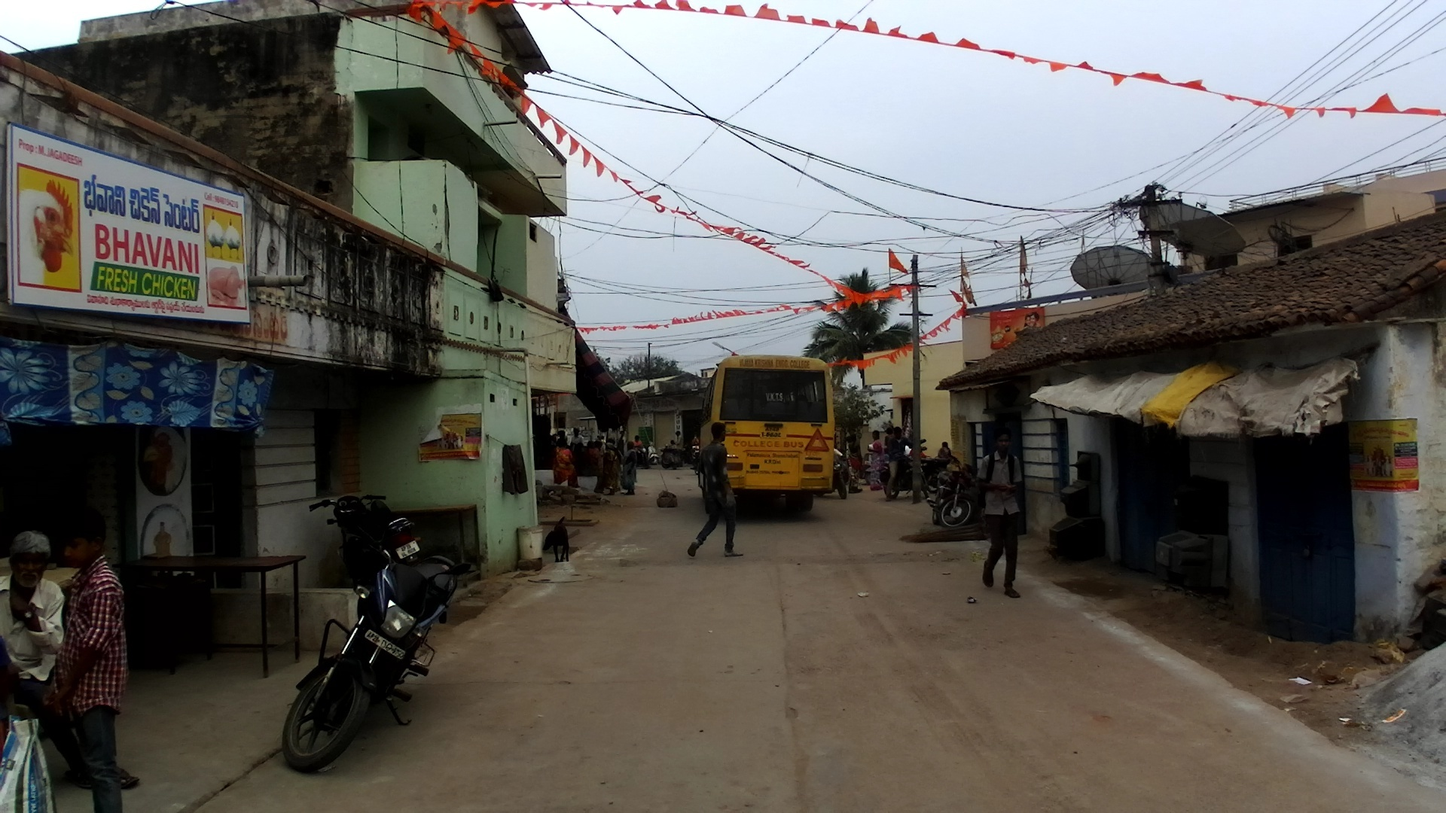animal: (543, 516, 570, 562)
bus: (697, 354, 835, 513)
motorcycle: (282, 550, 471, 773), (309, 495, 423, 592), (926, 459, 977, 527), (880, 438, 930, 500), (810, 449, 853, 500), (923, 457, 955, 492), (659, 444, 686, 470), (862, 448, 876, 486), (683, 446, 702, 466), (645, 440, 659, 464), (635, 447, 651, 468), (689, 452, 700, 476)
person: (1, 531, 135, 811), (57, 510, 138, 812), (685, 422, 745, 559), (976, 428, 1023, 599), (591, 437, 617, 495), (551, 440, 582, 488), (600, 443, 622, 498), (866, 431, 885, 492), (846, 434, 865, 492), (621, 437, 638, 496), (572, 442, 590, 475), (587, 440, 601, 476), (884, 428, 896, 457), (616, 430, 627, 457), (570, 426, 584, 447), (937, 441, 950, 461), (557, 430, 567, 447), (675, 430, 682, 452), (595, 440, 606, 453), (845, 436, 853, 449), (596, 434, 606, 443), (669, 439, 677, 449)
rider: (885, 425, 919, 501), (630, 436, 644, 465), (826, 446, 847, 465), (691, 436, 701, 446)
